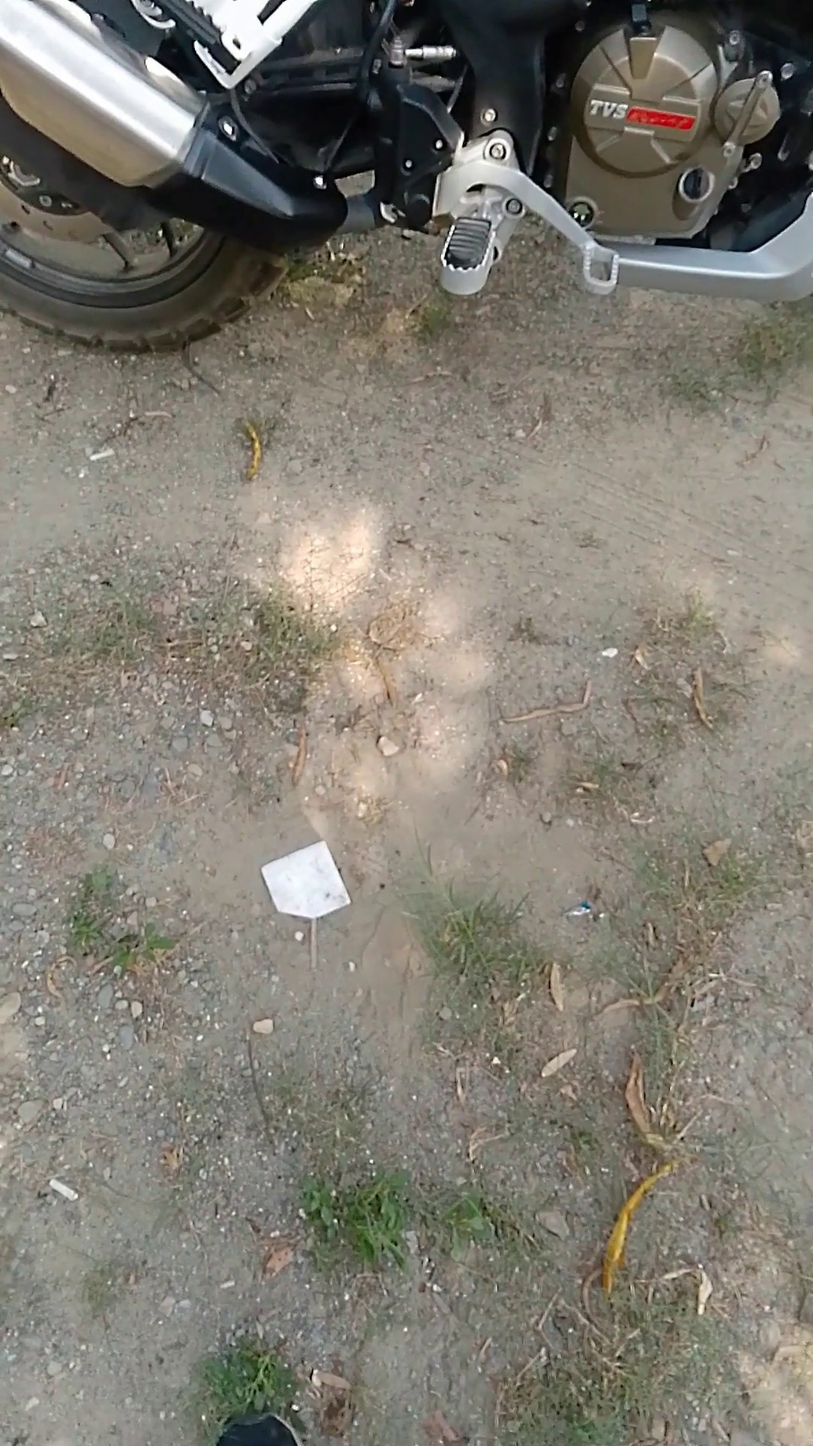engine: (557, 8, 791, 247)
oil_cap: (674, 161, 717, 207)
oil_marker: (562, 192, 610, 238)
